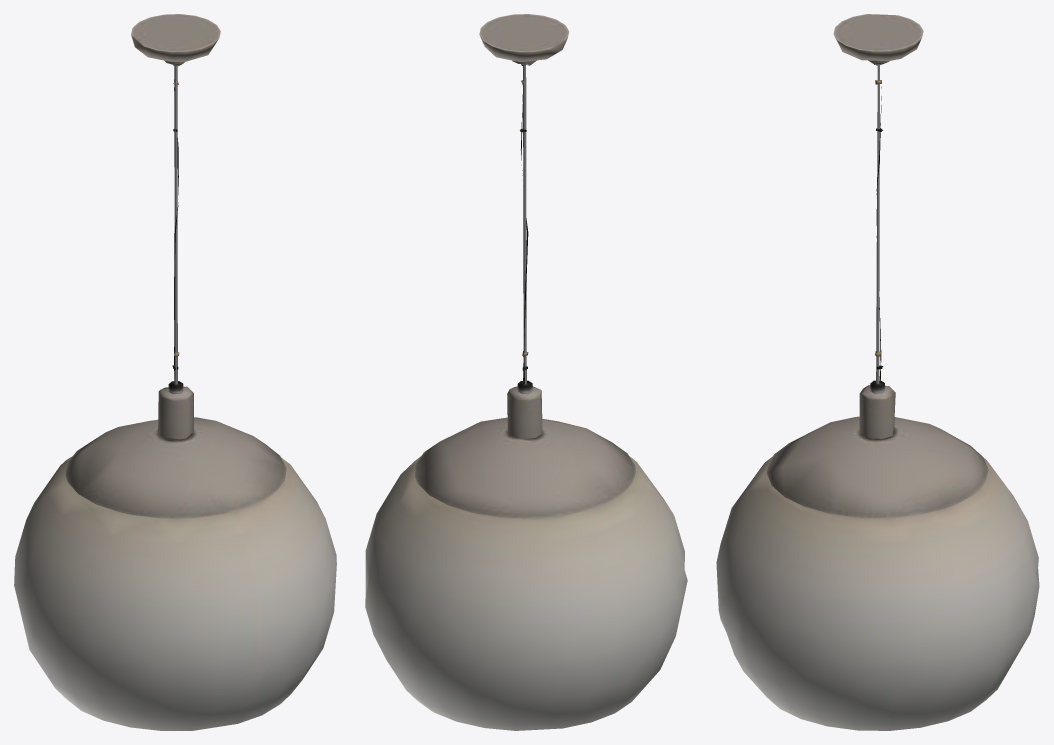
File: modern_ceiling_lamp_01.gltf
3 views of the same model, side by side, from view 1: azimuth 30°, elevation 25°; view 2: azimuth 150°, elevation 25°; view 3: azimuth 270°, elevation 25° (orthographic).
Visible parts, largest first — view 1: modern_ceiling_lamp_01; view 2: modern_ceiling_lamp_01; view 3: modern_ceiling_lamp_01.
Part boxes in pixels (x1,y1,x2,y2): modern_ceiling_lamp_01: [14, 14, 336, 730]; modern_ceiling_lamp_01: [365, 14, 687, 730]; modern_ceiling_lamp_01: [716, 14, 1039, 730].
Bounding box in the file's own units: 0.4288 × 0.9512 × 0.4288.
3 materials, 3 textured.
